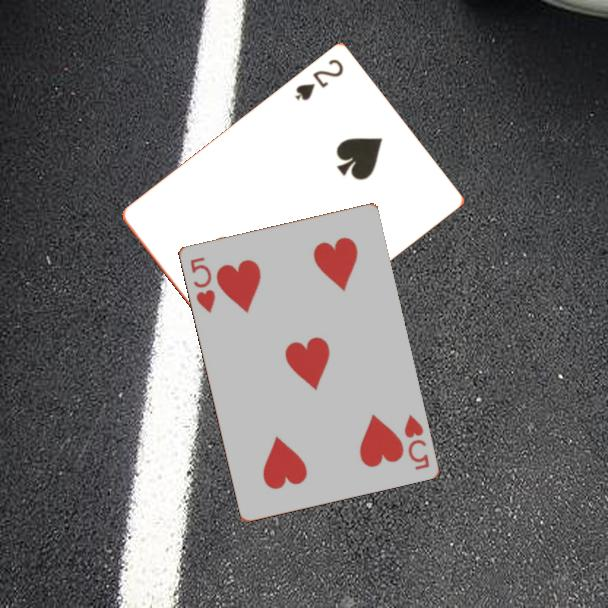h05: (186, 253, 218, 316), (400, 411, 432, 473)
s02: (291, 56, 346, 104)
